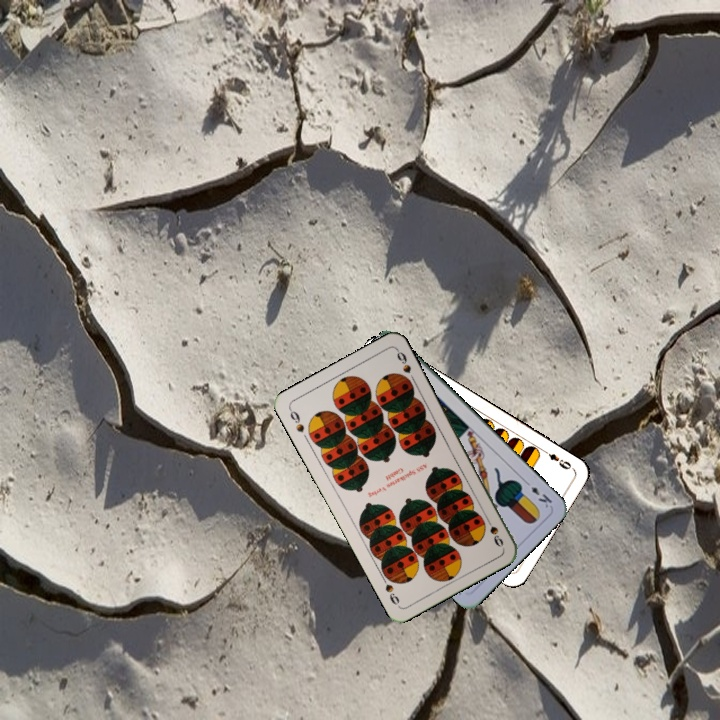E9: (538, 446, 574, 472)
EK: (520, 477, 555, 511)
S9: (481, 512, 506, 550), (285, 405, 307, 435)
